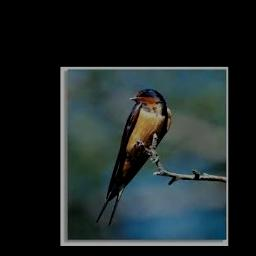Swallow: (96, 88, 172, 225)
